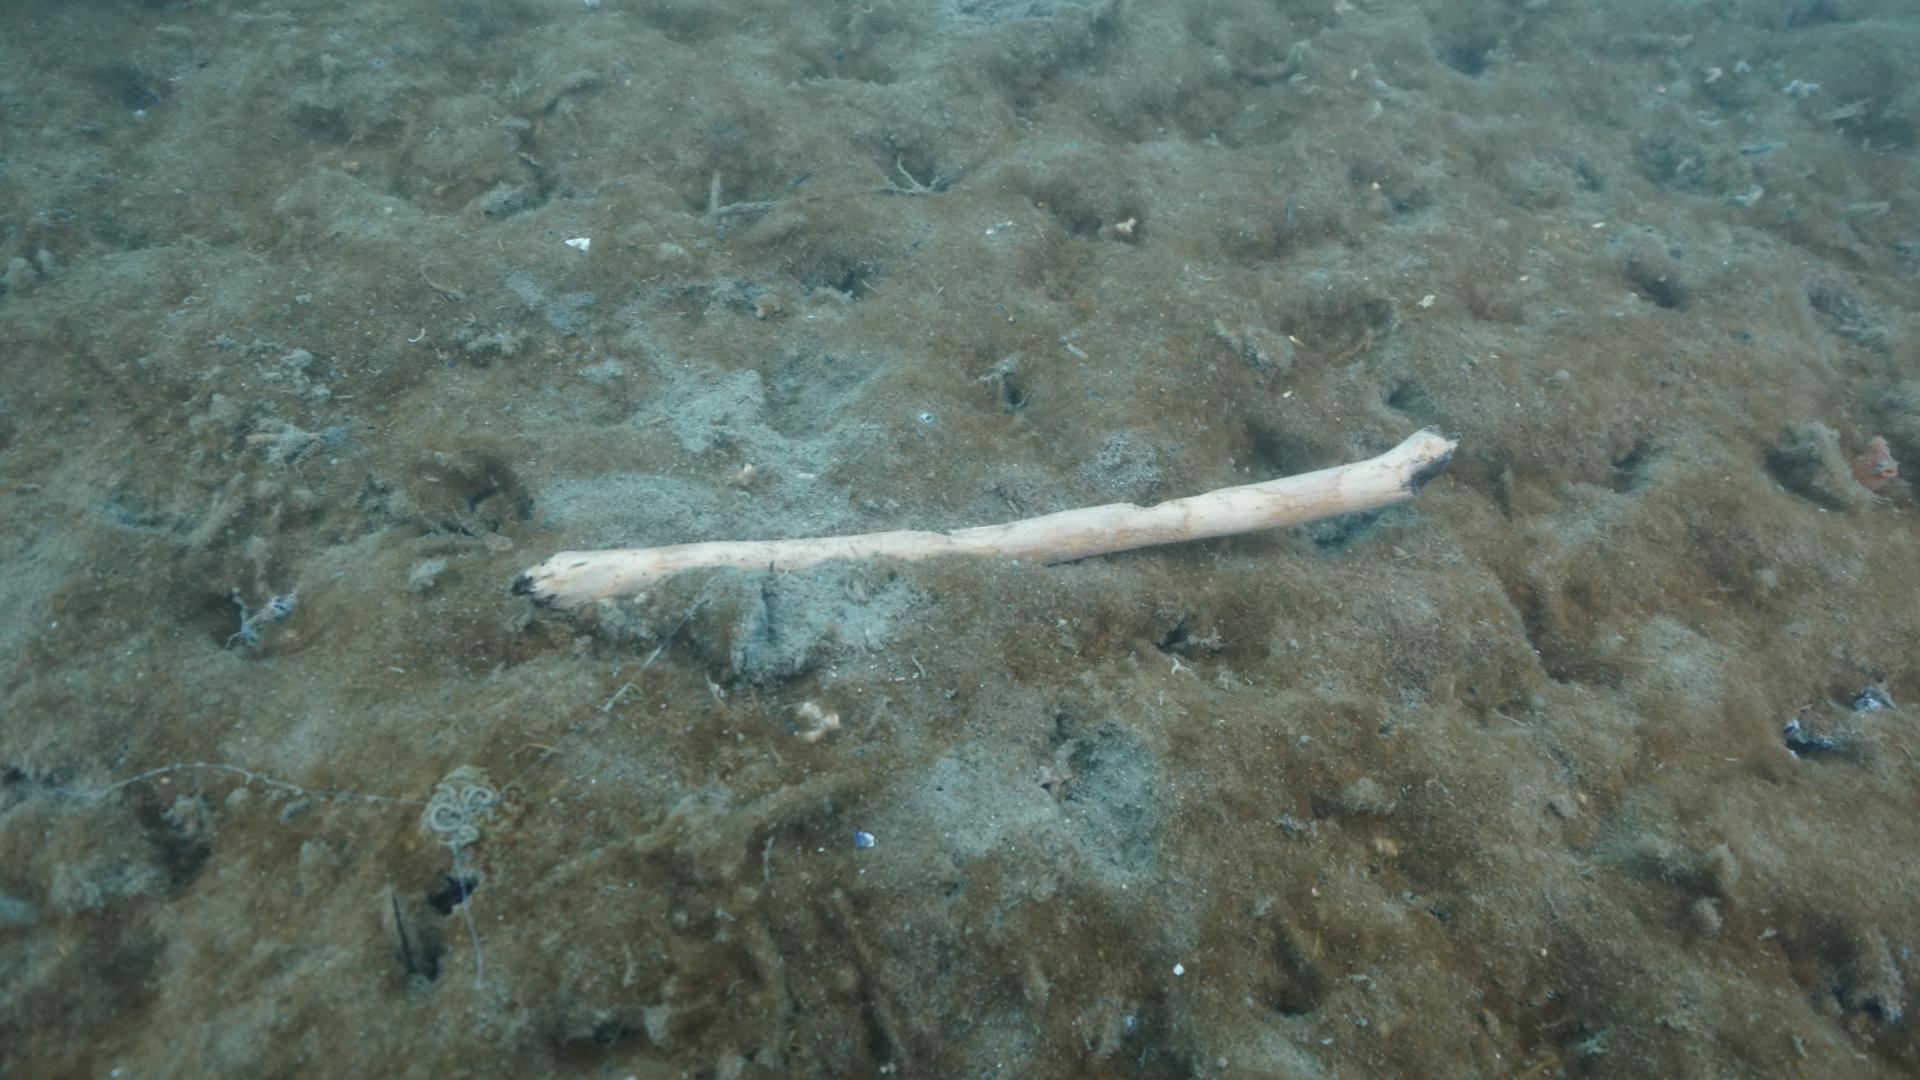wood: (509, 425, 1456, 615)
